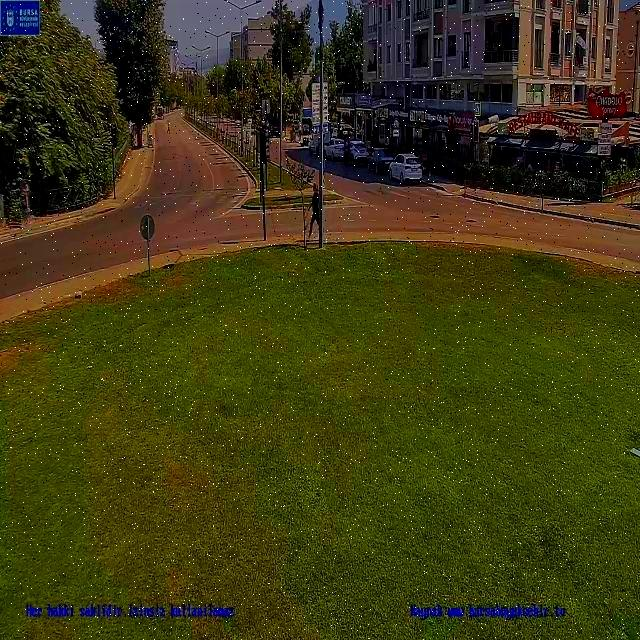Car: (388, 153, 424, 184), (366, 148, 396, 175), (347, 140, 372, 166), (323, 139, 347, 160)
